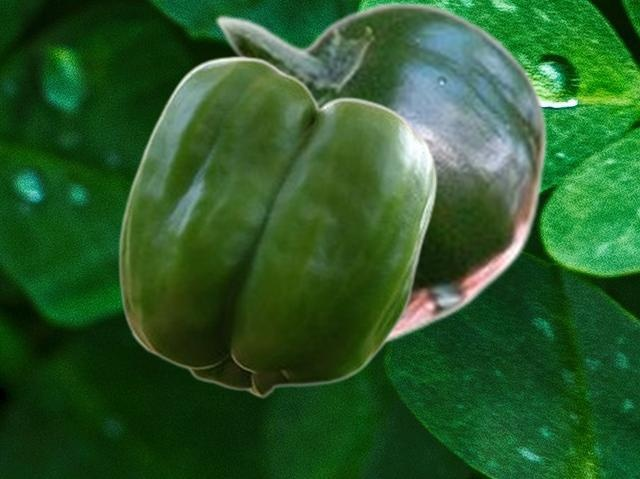bell_pepper: (210, 0, 547, 346), (117, 55, 436, 397)
